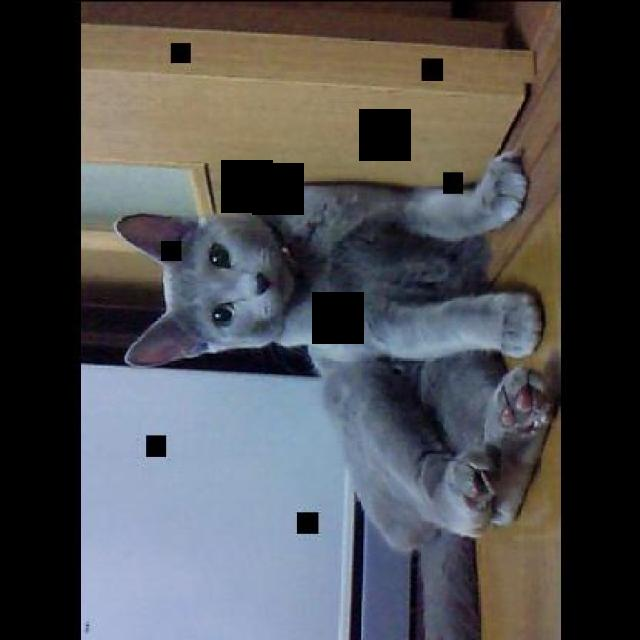unauthorized: (114, 146, 557, 639), (113, 146, 544, 369), (317, 348, 555, 638), (252, 146, 530, 257)
